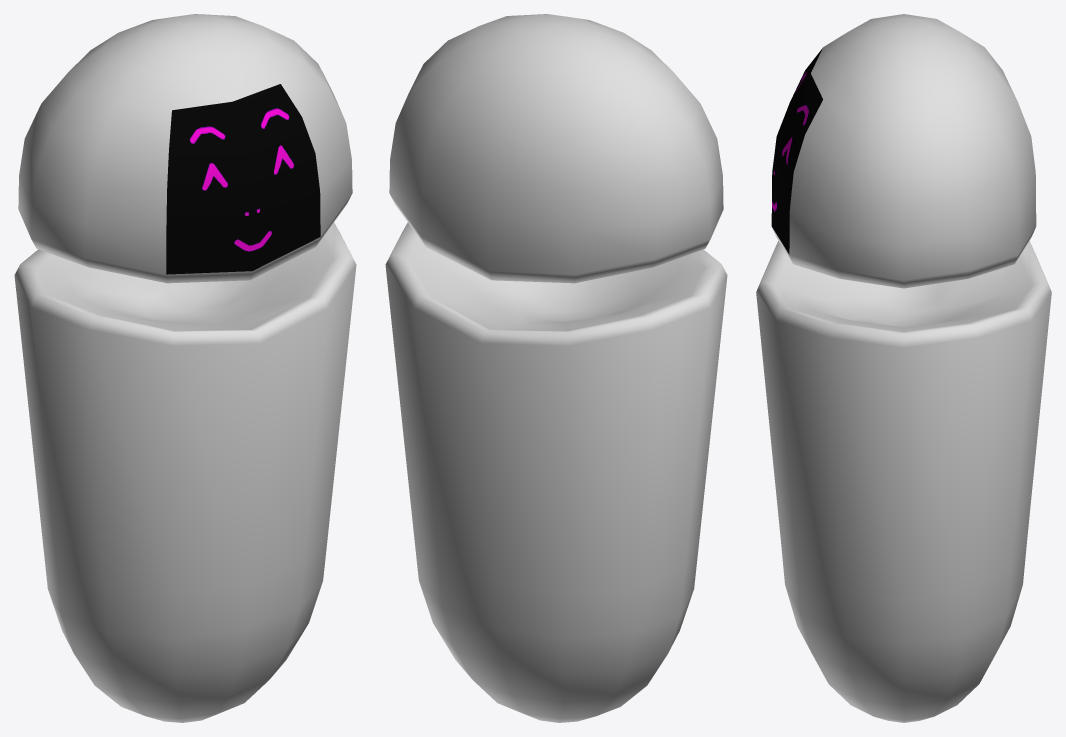
File: Robot01.FBX
3 renders of one model, left to right at view 1: azimuth 30°, elevation 25°; view 2: azimuth 150°, elevation 25°; view 3: azimuth 270°, elevation 25°, orthographic.
Visible parts, largest first — view 1: Capsule001, Capsule002, Robot01; view 2: Capsule001, Capsule002; view 3: Capsule001, Capsule002, Robot01.
Part boxes in pixels (x1,y1,x2,y2): Capsule001: (14, 222, 356, 722); Capsule002: (18, 14, 352, 283); Robot01: (166, 84, 320, 274); Capsule001: (385, 222, 727, 722); Capsule002: (389, 14, 723, 283); Capsule001: (756, 241, 1051, 722); Capsule002: (772, 14, 1036, 288); Robot01: (771, 48, 822, 253).
Bounding box in the file's own units: 0.9206 × 1.97 × 0.7739.
2 materials, 1 textured.
